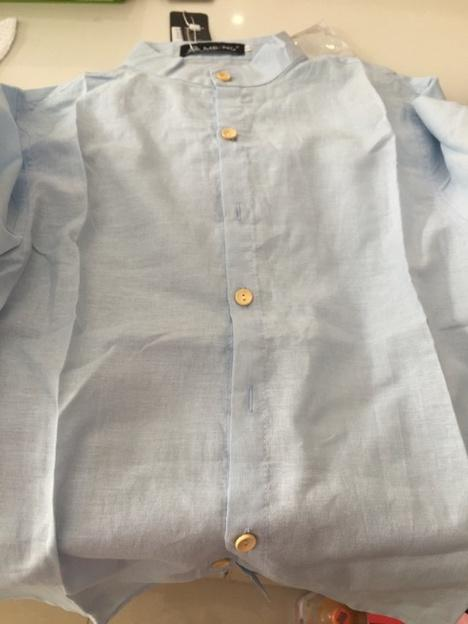S_shirt: (2, 32, 466, 624)
